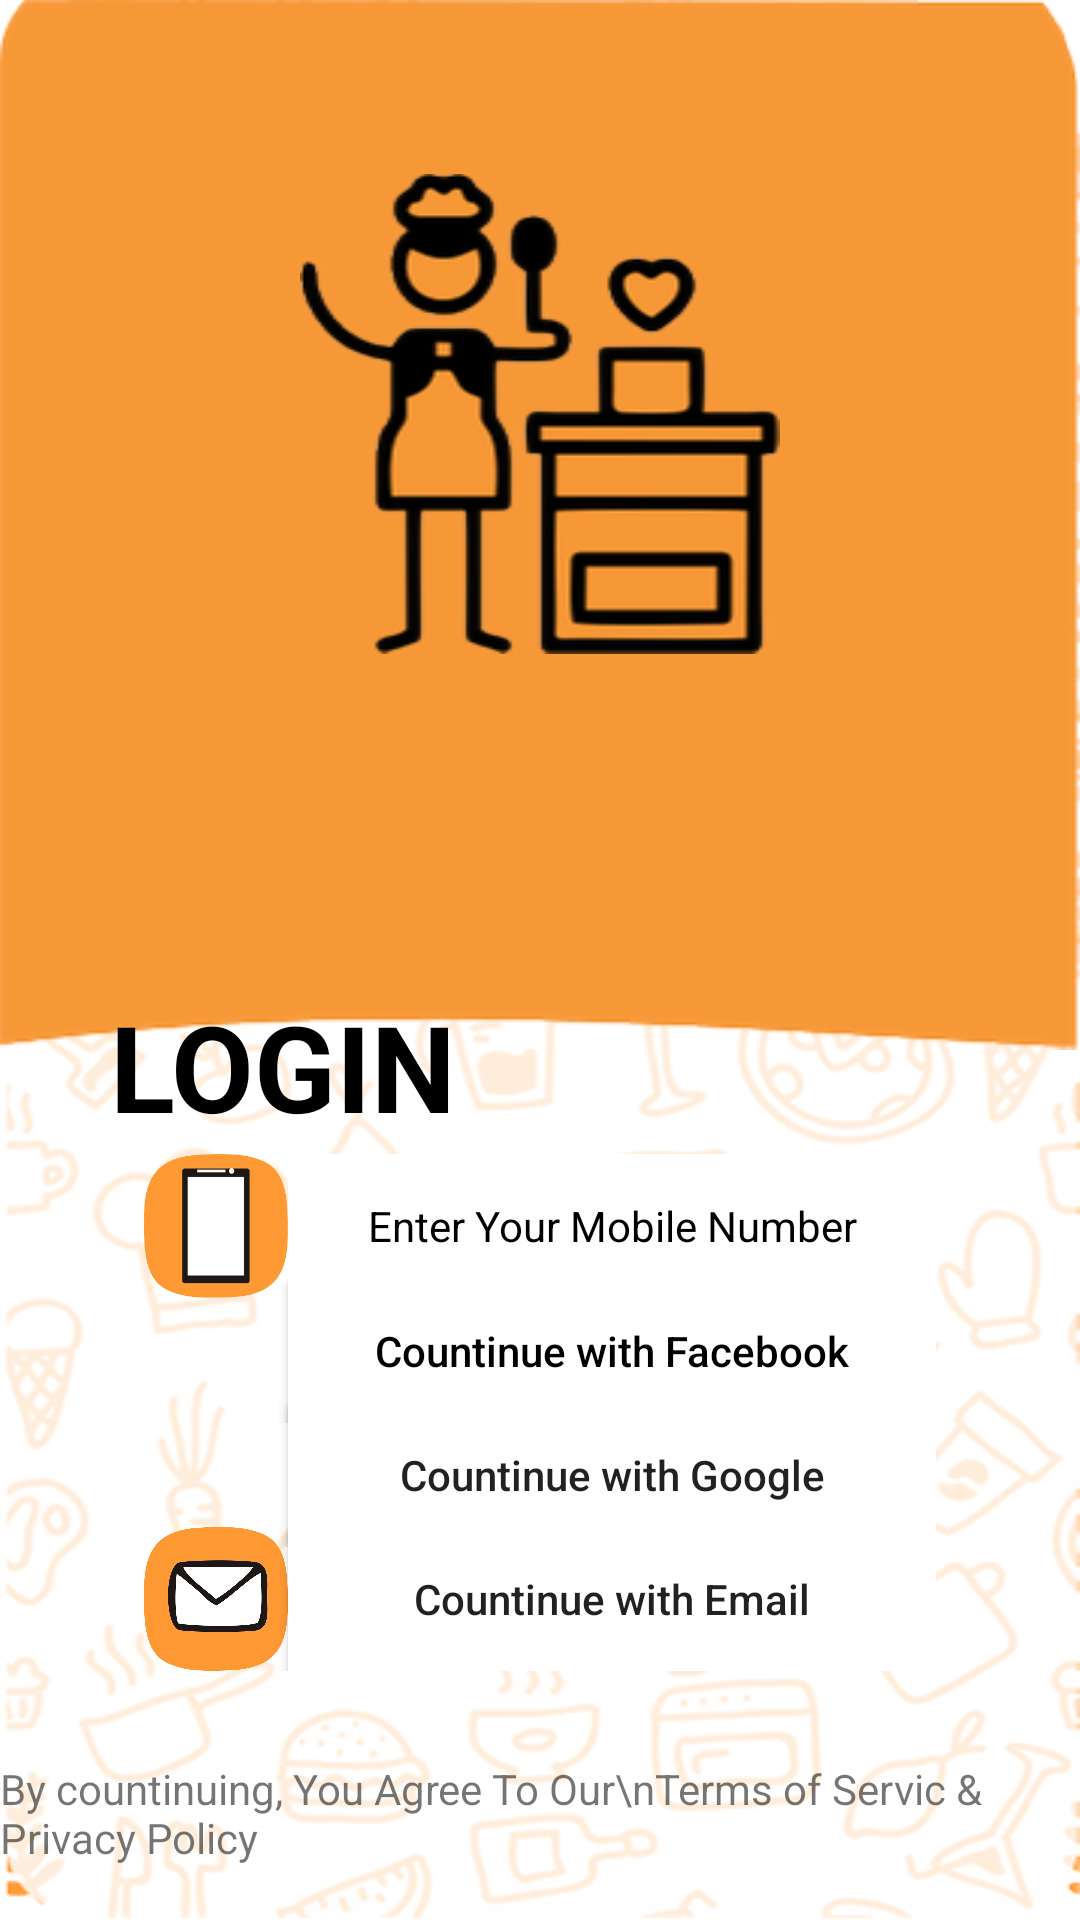

Where to tap for icons on this 1080px x 1920px app screen, as (x=x, y=y):
mob: (x=216, y=1226)
